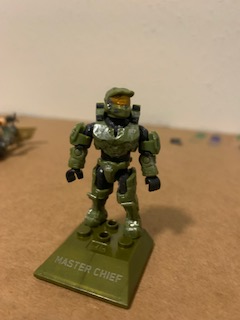chief: (65, 86, 163, 238)
spartan: (63, 84, 161, 236)
